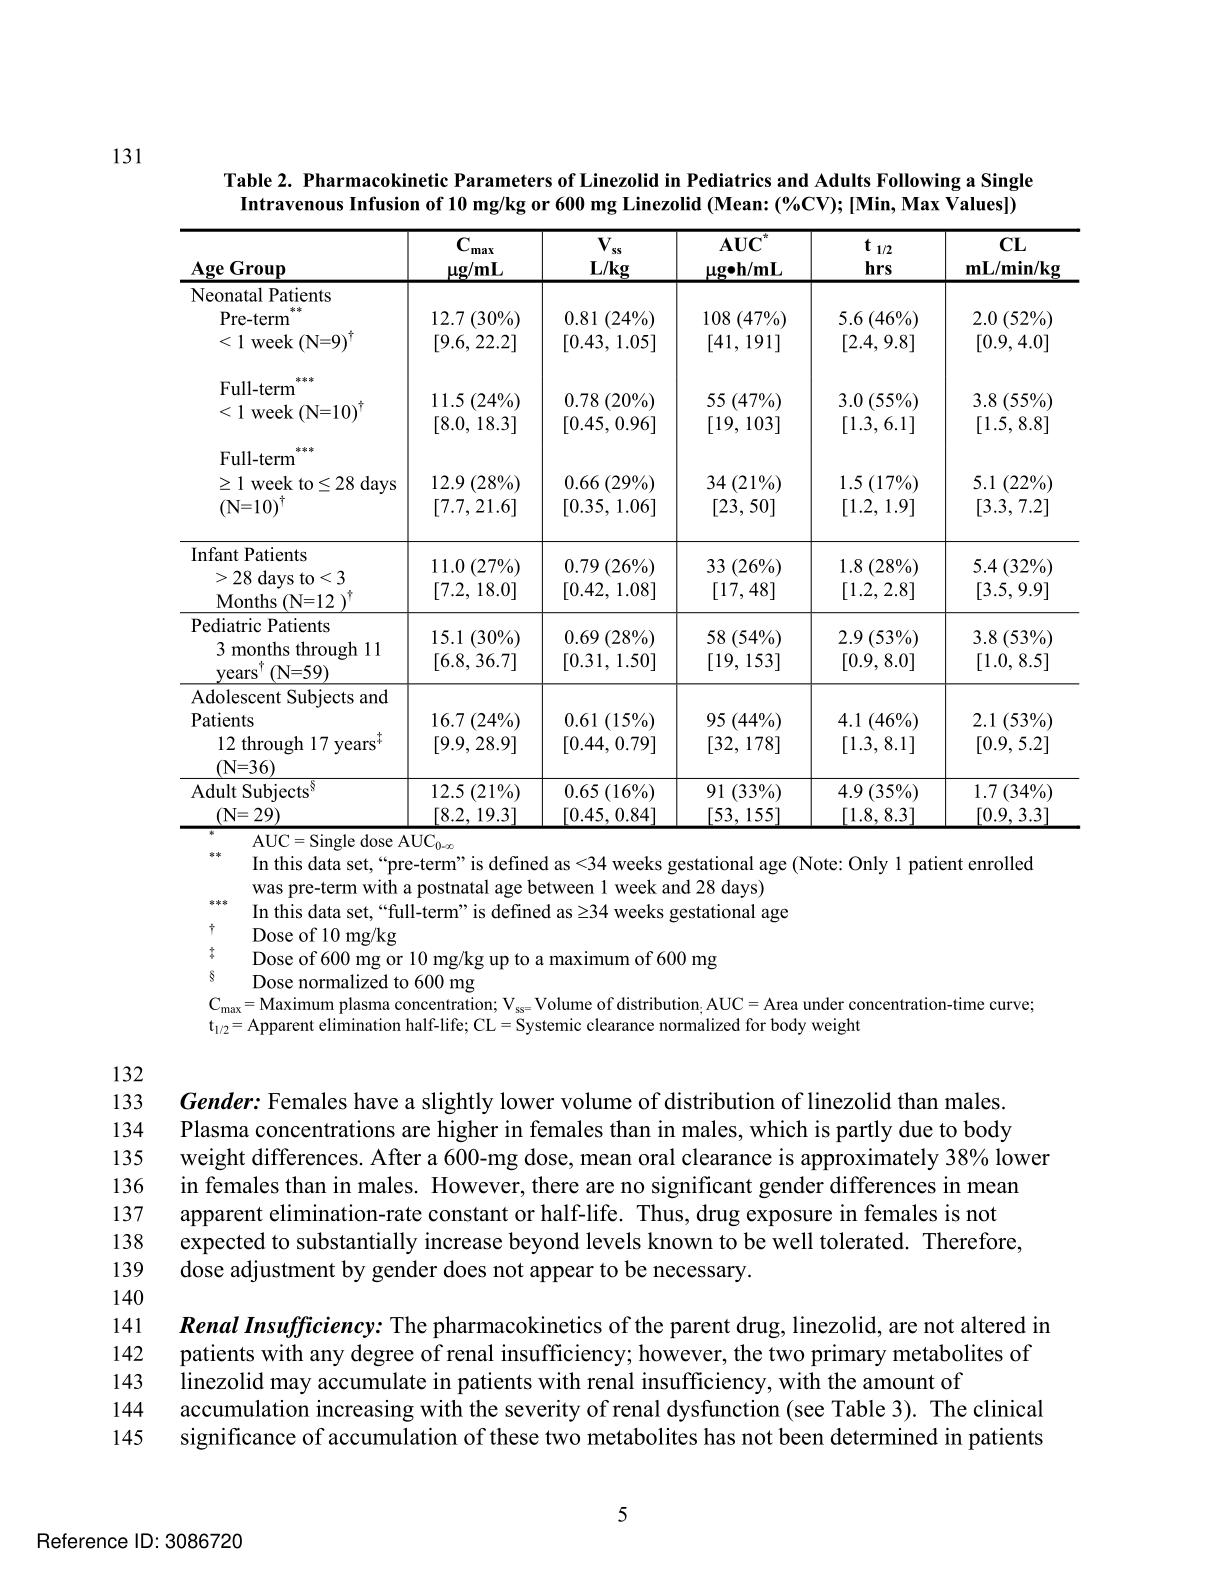partial_lined: (177, 225, 1083, 831)
